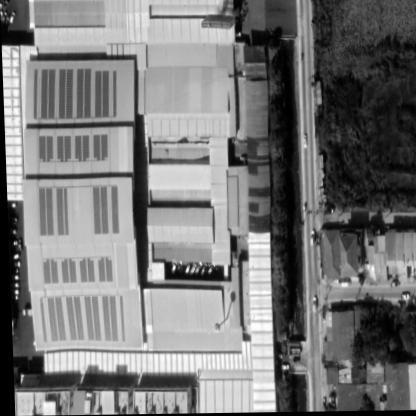solar-pv-panel: (45, 297, 64, 342), (82, 296, 99, 341), (76, 69, 91, 119), (58, 69, 73, 119), (100, 296, 116, 342), (40, 69, 55, 118), (64, 297, 81, 340), (92, 187, 107, 234), (94, 71, 109, 117), (37, 188, 51, 236), (55, 189, 67, 235), (74, 135, 88, 162), (93, 135, 107, 161), (56, 136, 70, 162), (38, 136, 52, 162), (37, 298, 45, 343), (110, 187, 117, 233), (117, 295, 123, 343), (77, 258, 85, 283), (48, 259, 56, 284), (33, 69, 37, 118), (103, 258, 111, 282), (96, 258, 104, 282), (85, 258, 93, 282), (59, 259, 67, 283), (112, 70, 116, 117), (41, 259, 48, 285), (67, 259, 74, 283)
